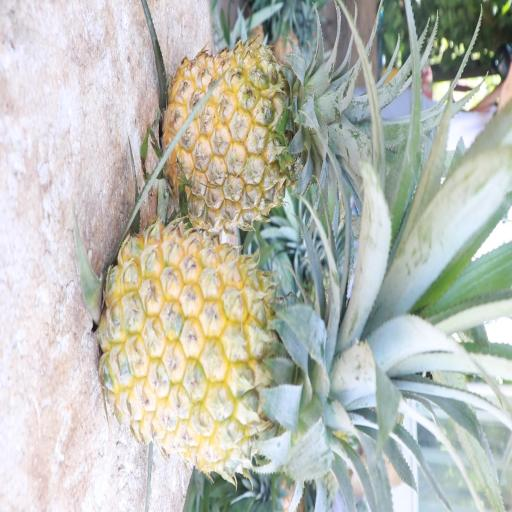Pineapple - v8 v1: (92, 219, 395, 480), (158, 32, 366, 235), (216, 154, 226, 158), (223, 112, 232, 112)
